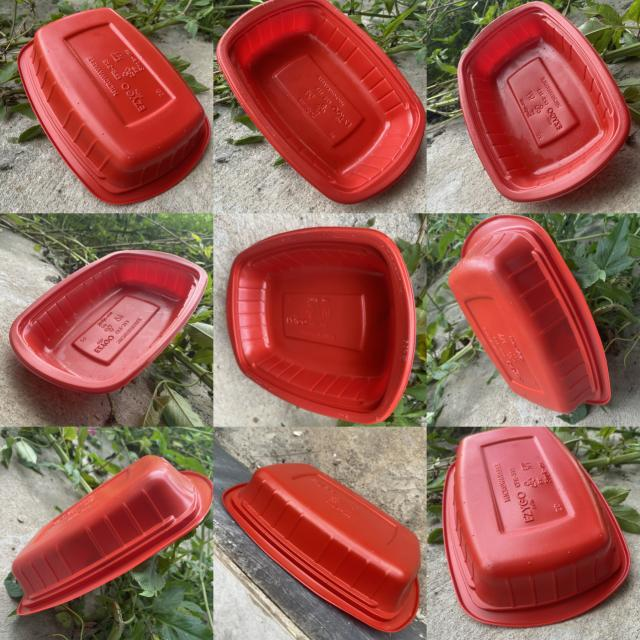Single-Use-Plastic: (216, 0, 425, 204), (18, 8, 210, 204), (442, 428, 630, 628), (226, 226, 415, 424), (458, 1, 631, 201), (222, 464, 420, 631), (12, 455, 212, 615), (449, 215, 610, 412), (10, 250, 208, 394)
